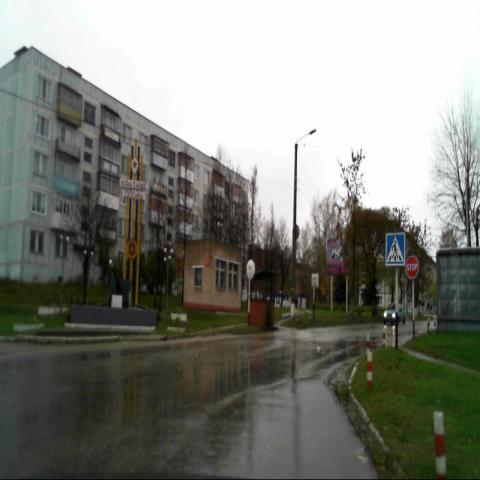2_5: (406, 254, 418, 278)
